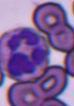N: (1, 27, 49, 78)
